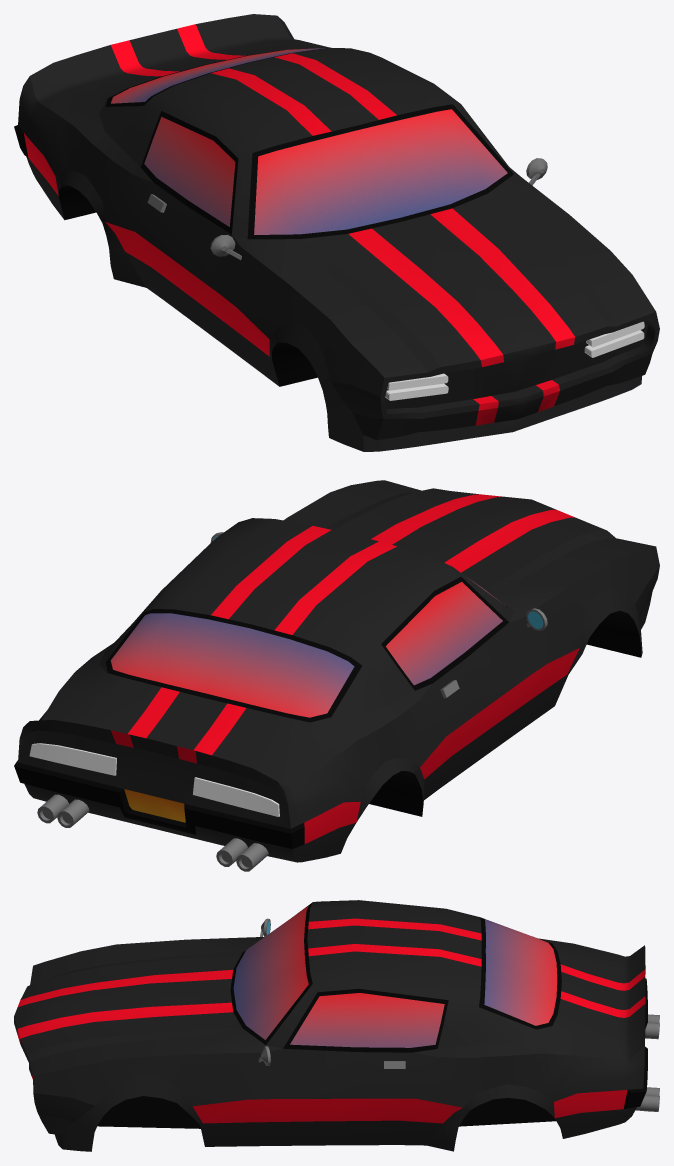
The model's file is Muscle.fbx.
The picture shows the model from 3 angles, top to bottom: view 1: azimuth 30°, elevation 25°; view 2: azimuth 150°, elevation 25°; view 3: azimuth 270°, elevation 25°; orthographic projection. The views are drawn at different scales.
Visible parts, largest first — view 1: Body.001; view 2: Body.001; view 3: Body.001.
Boxes of the visible parts, x1=… form: Body.001: x1=14, y1=14, x2=659, y2=451; Body.001: x1=14, y1=480, x2=659, y2=871; Body.001: x1=14, y1=900, x2=659, y2=1151.
Size of the model in its own units: 198 by 110 by 394.
